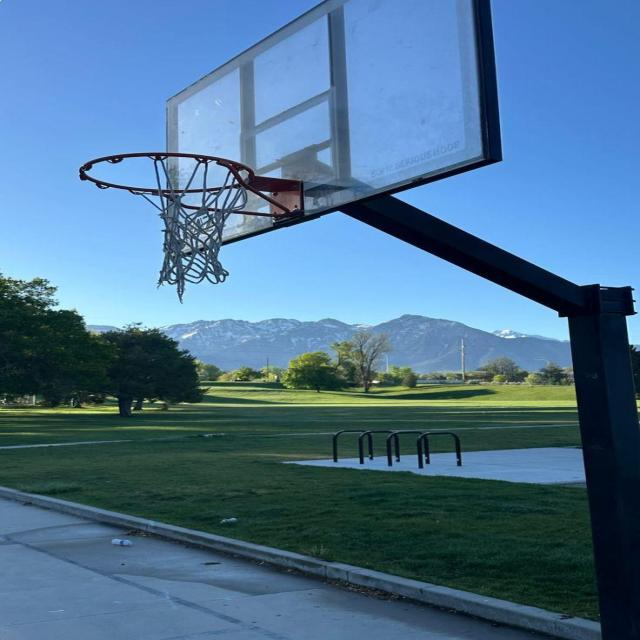hoop: (61, 126, 294, 304)
